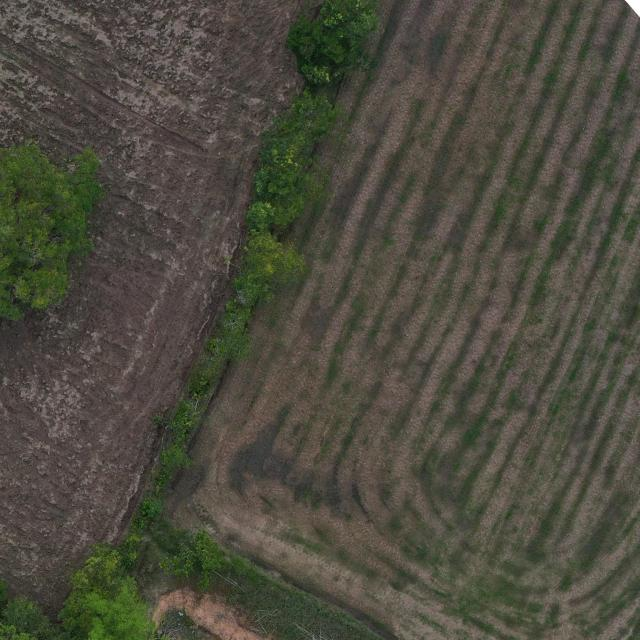tree: (0, 140, 104, 327), (58, 542, 184, 640), (283, 0, 380, 89), (254, 89, 340, 174), (232, 230, 314, 308), (242, 169, 320, 235), (158, 528, 224, 592), (202, 299, 260, 367), (0, 580, 61, 640)
